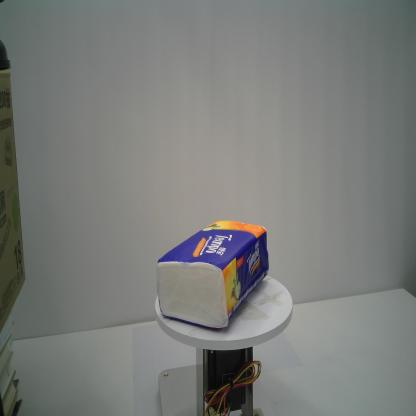Tissue: (154, 218, 271, 331)
